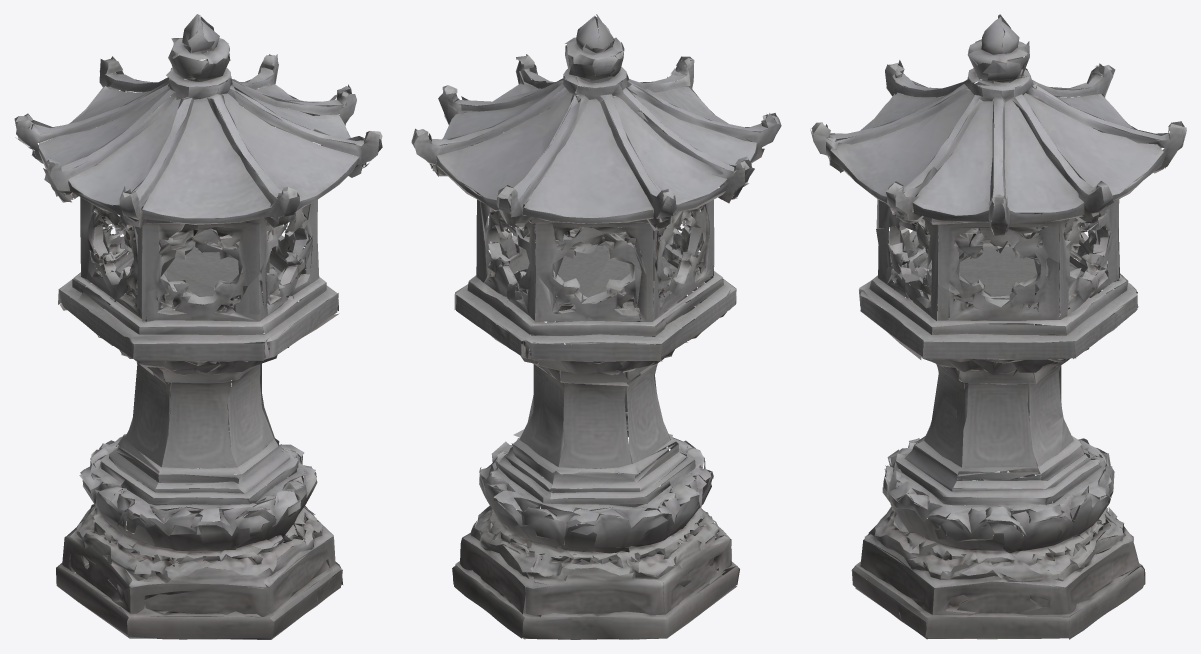
Rendered from B2-stone-lamp.glb.
The picture shows the model from 3 angles, left to right: view 1: azimuth 30°, elevation 25°; view 2: azimuth 150°, elevation 25°; view 3: azimuth 270°, elevation 25°; orthographic projection.
Parts seen in each view (by area): view 1: Prop_B2; view 2: Prop_B2; view 3: Prop_B2.
Part boxes in pixels (box(x1,y1,x2,y2)): Prop_B2: box(14, 14, 382, 639); Prop_B2: box(411, 14, 781, 639); Prop_B2: box(810, 14, 1186, 639).
Size of the model in its own units: 0.568 by 1.01 by 0.5992.
Materials: 1 (1 with a texture image).
